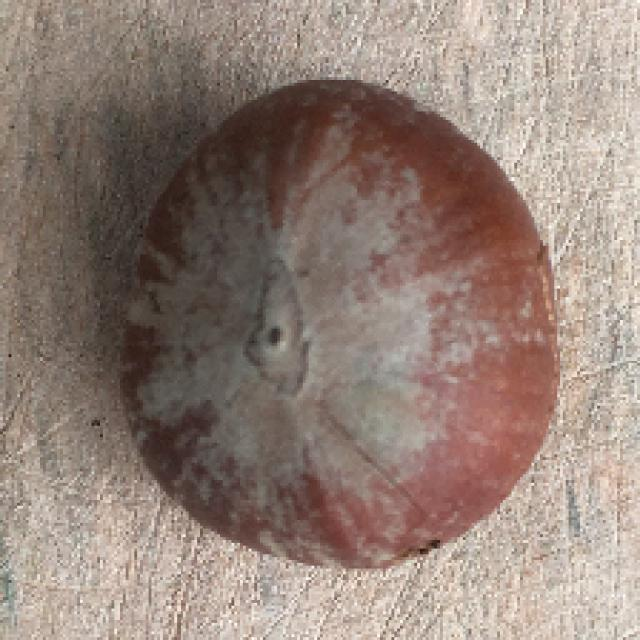DamagedHazelnut: (125, 77, 557, 561)
